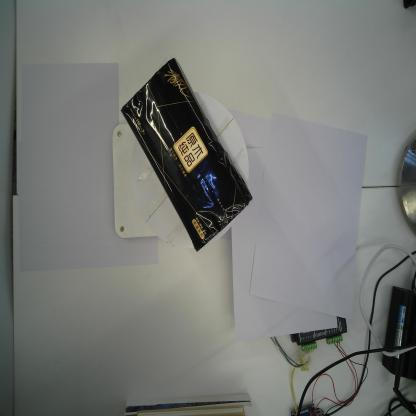Tissue: (118, 55, 254, 254)
